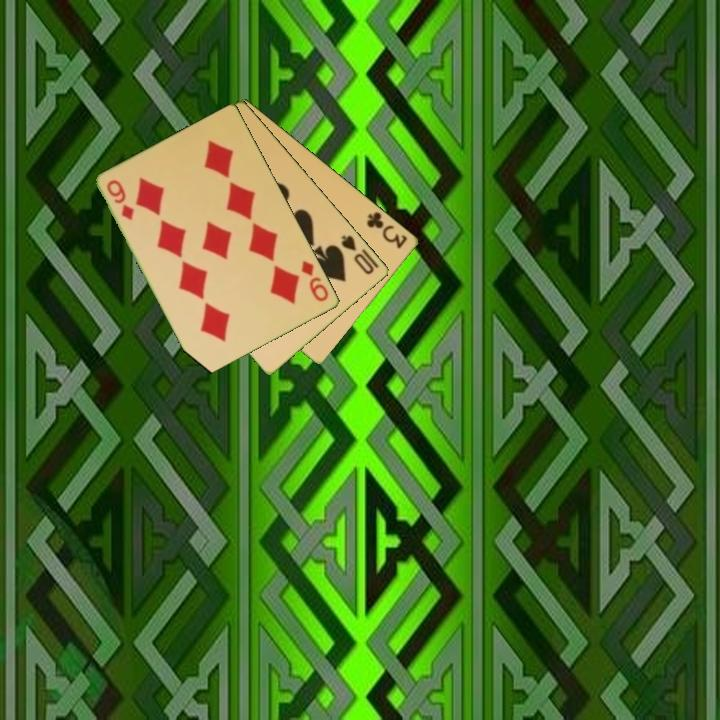10s: (338, 232, 377, 277)
3c: (363, 208, 411, 251)
9d: (298, 257, 332, 305), (104, 176, 137, 224)
